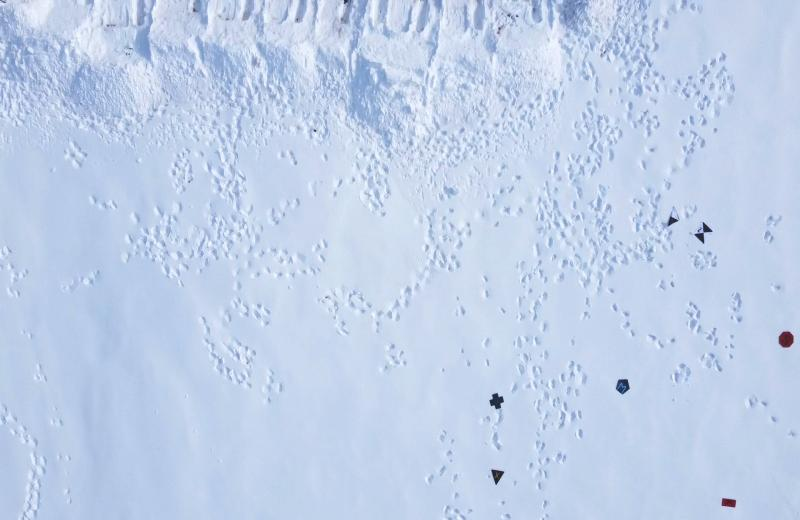Cross: (488, 392, 506, 411)
Octagon: (777, 329, 795, 350)
Pentagon: (615, 377, 631, 396)
Rectangle: (720, 496, 738, 510)
Triangle: (490, 466, 506, 486)
